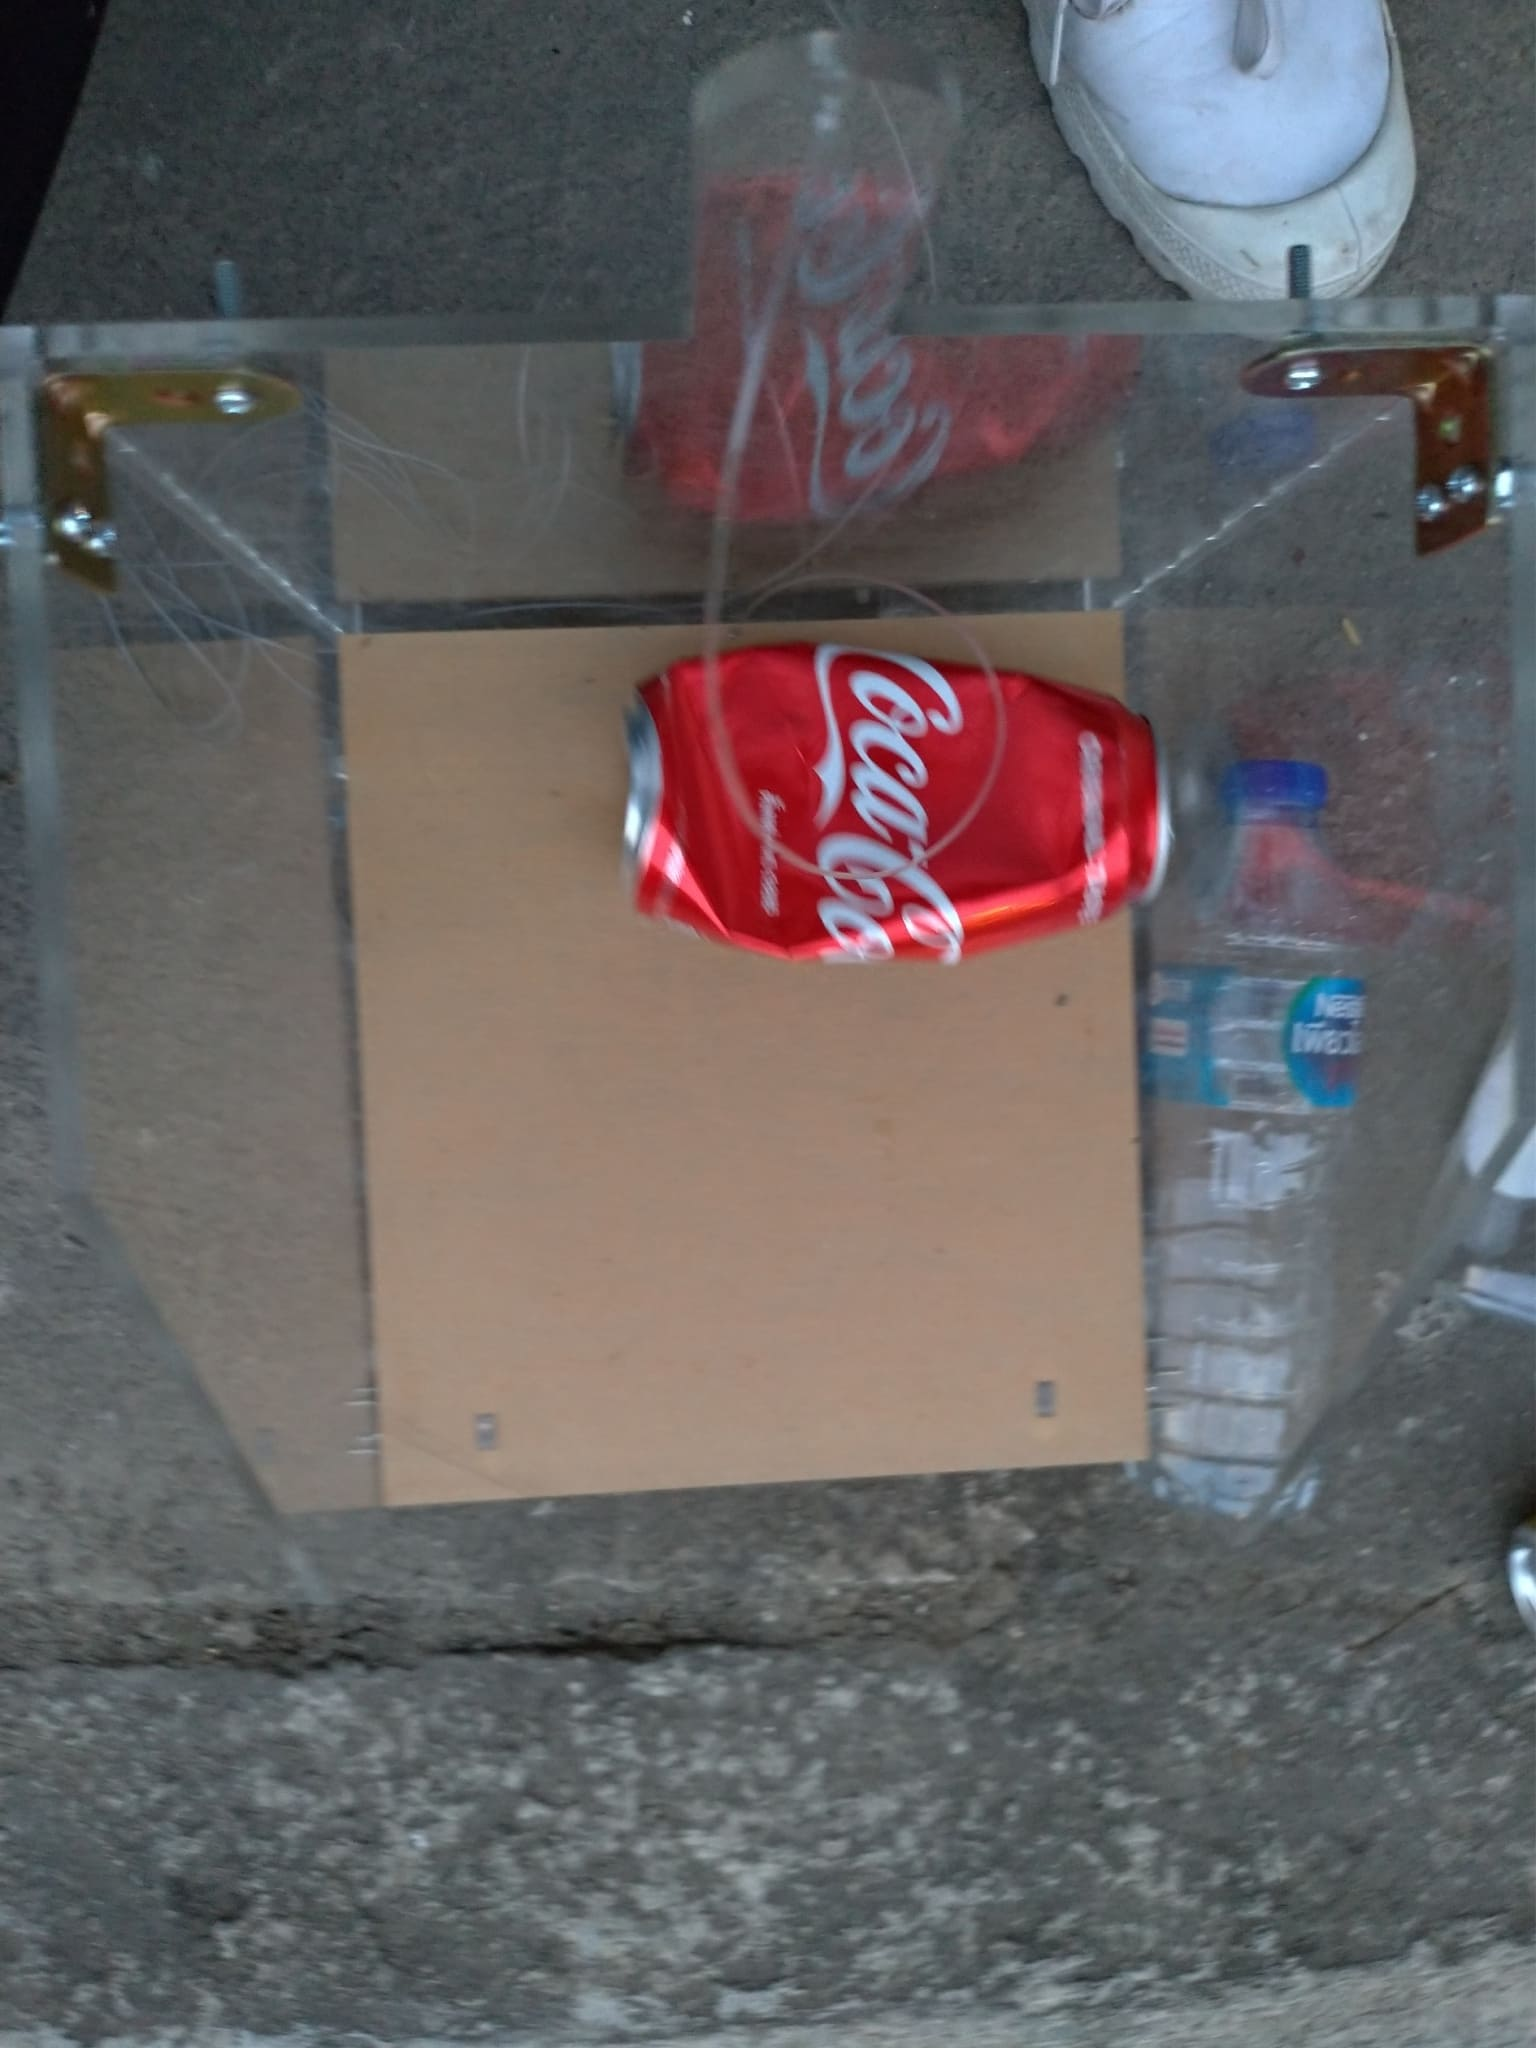AlCan: (624, 645, 1178, 961)
PlasticBottle: (1137, 764, 1362, 1506)
